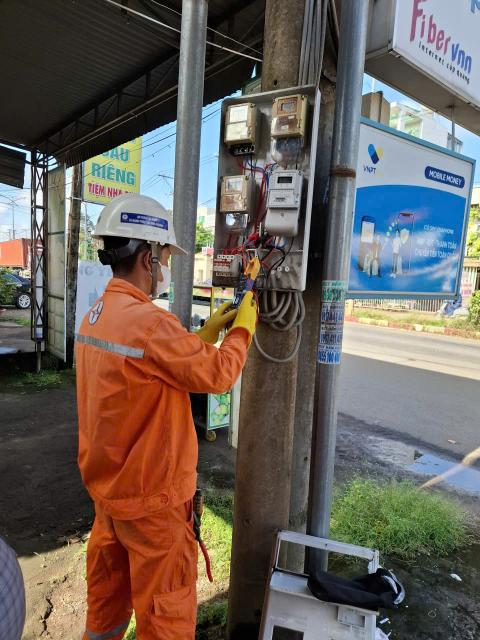gloves: (183, 303, 240, 344), (223, 282, 259, 336)
helmet: (89, 186, 197, 258)
